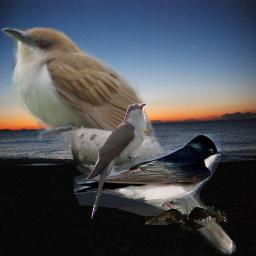Crow: (145, 206, 227, 234)
Cuckoo: (1, 27, 236, 255), (86, 103, 147, 220)
Swallow: (74, 134, 221, 216)
